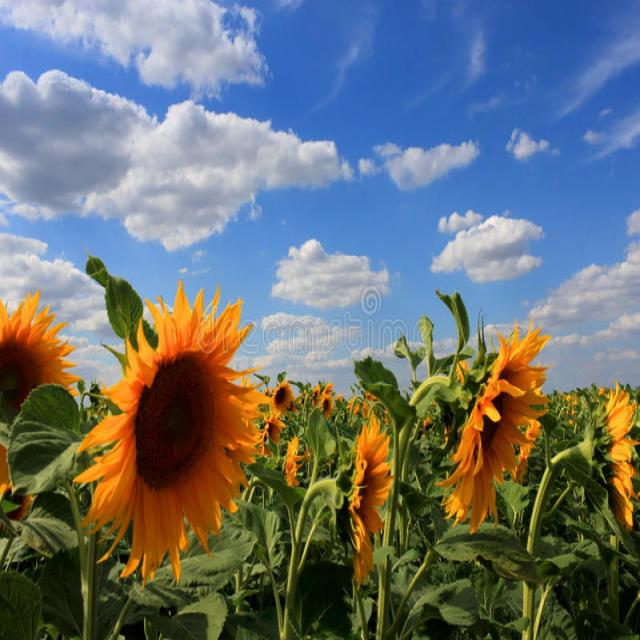sunflower: (75, 273, 280, 597), (443, 304, 554, 548), (0, 298, 68, 512), (330, 393, 396, 588), (589, 380, 640, 544), (264, 371, 296, 418)
